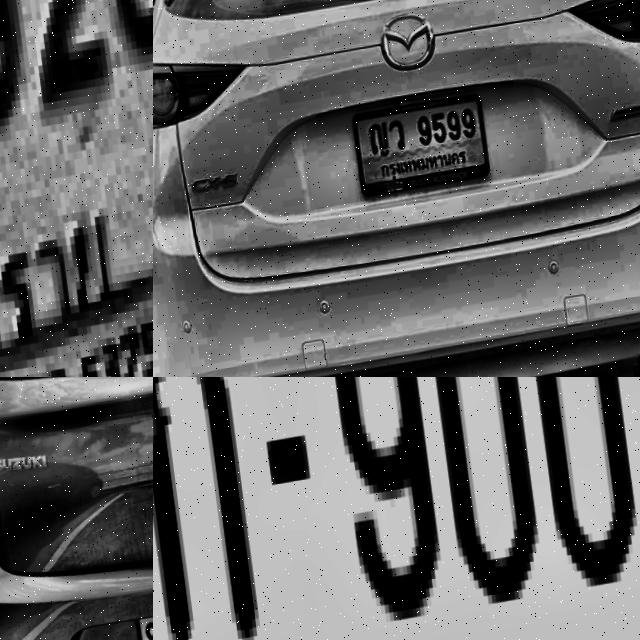license-plate: (153, 377, 640, 640), (0, 0, 153, 377), (350, 92, 490, 203)
